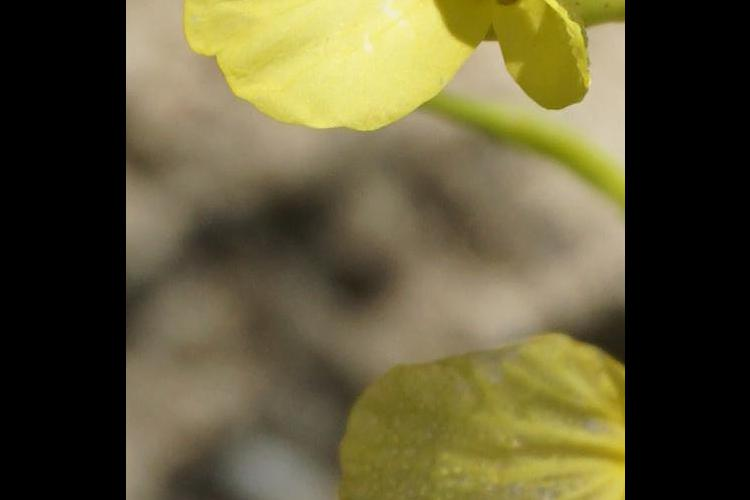yellow: (177, 1, 612, 110), (337, 348, 625, 500)
